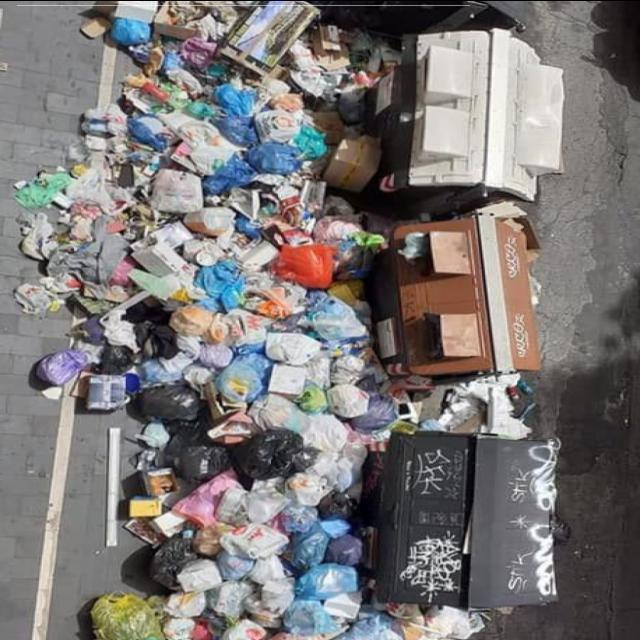Trashbag: (230, 424, 307, 483), (137, 381, 198, 422), (176, 441, 232, 483), (148, 540, 198, 586), (138, 322, 172, 362), (97, 344, 134, 378)
